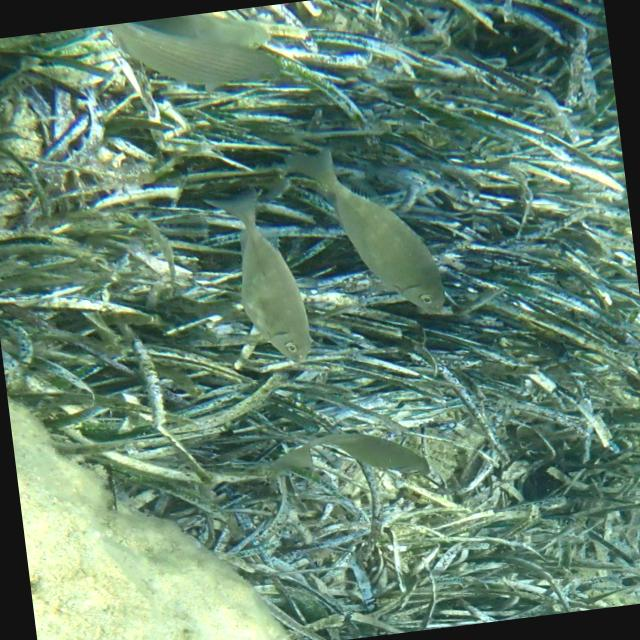Sokar Baligi: (274, 118, 455, 336), (215, 181, 321, 384)
